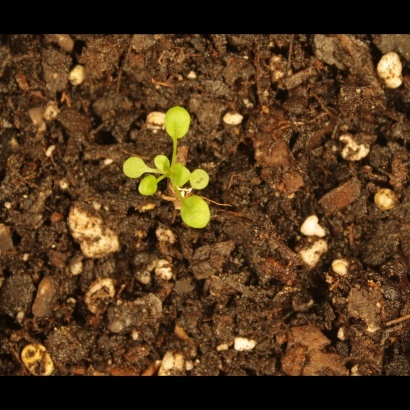leaf: (159, 105, 194, 141), (179, 195, 213, 230), (118, 151, 147, 182), (136, 176, 160, 206), (169, 161, 193, 191), (149, 150, 172, 180), (190, 166, 213, 192)
